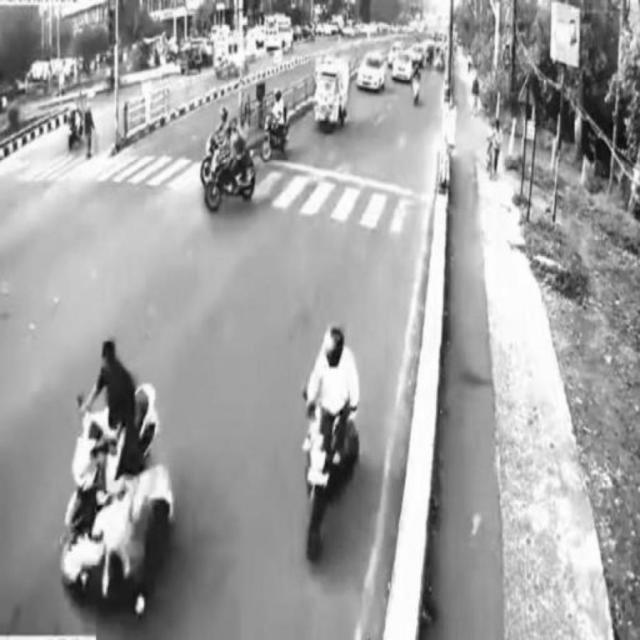accident: (63, 342, 181, 615)
vehicle: (302, 321, 366, 557), (206, 117, 256, 210), (316, 58, 350, 131), (260, 88, 294, 159), (357, 51, 387, 92)
